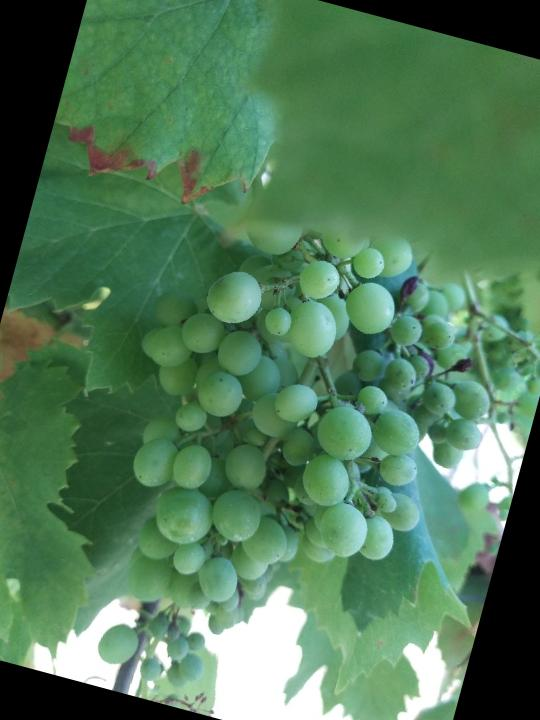grape: (72, 179, 531, 689)
